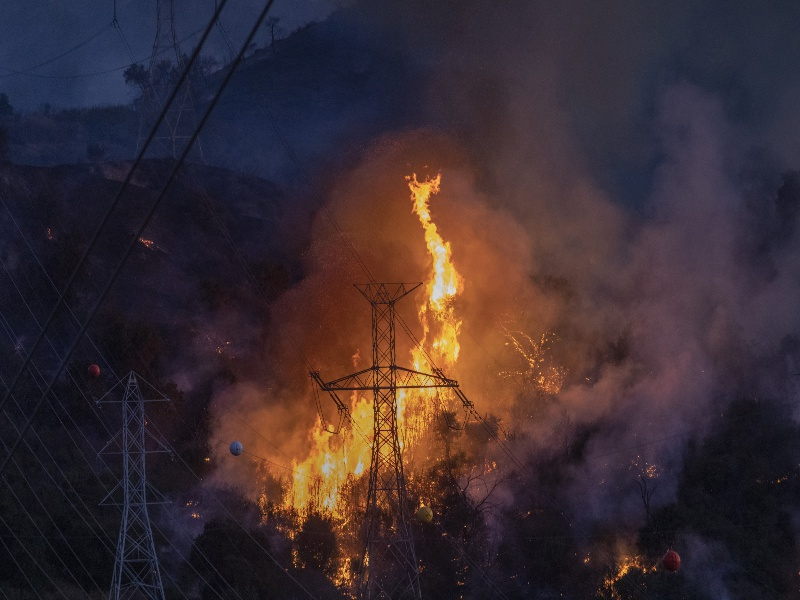fire: (272, 158, 474, 597)
